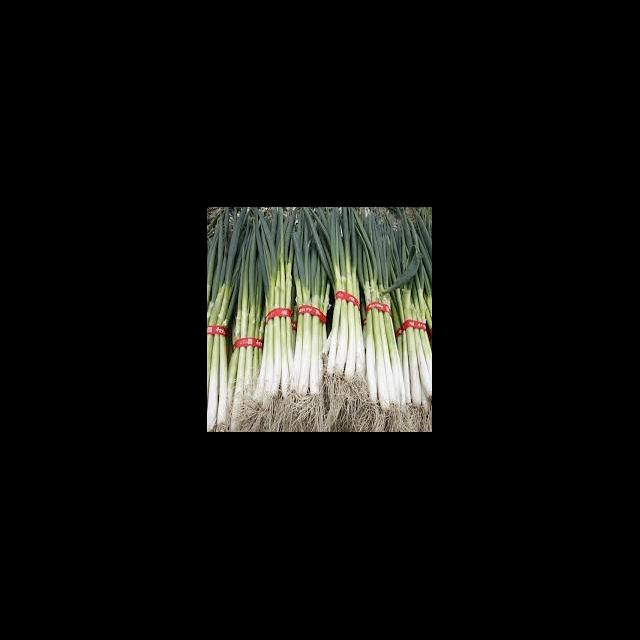green_onion: (364, 222, 406, 410), (392, 208, 432, 405), (256, 208, 294, 400), (294, 210, 330, 396), (328, 208, 366, 381)
